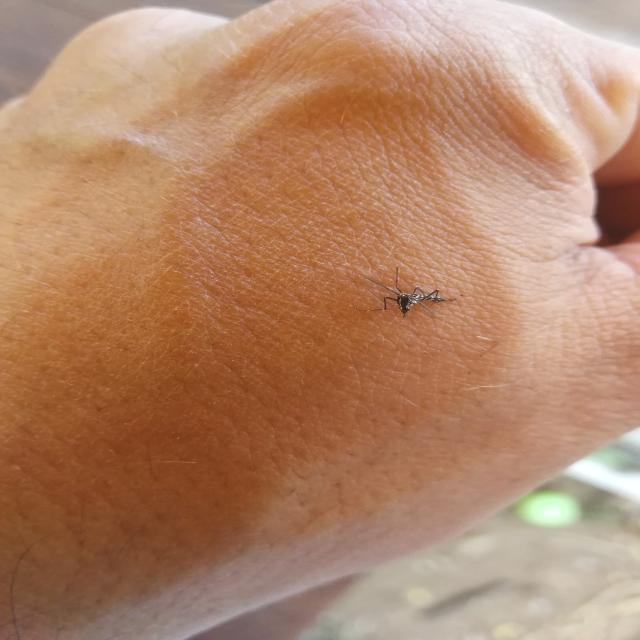albopictus: (354, 263, 459, 321)
